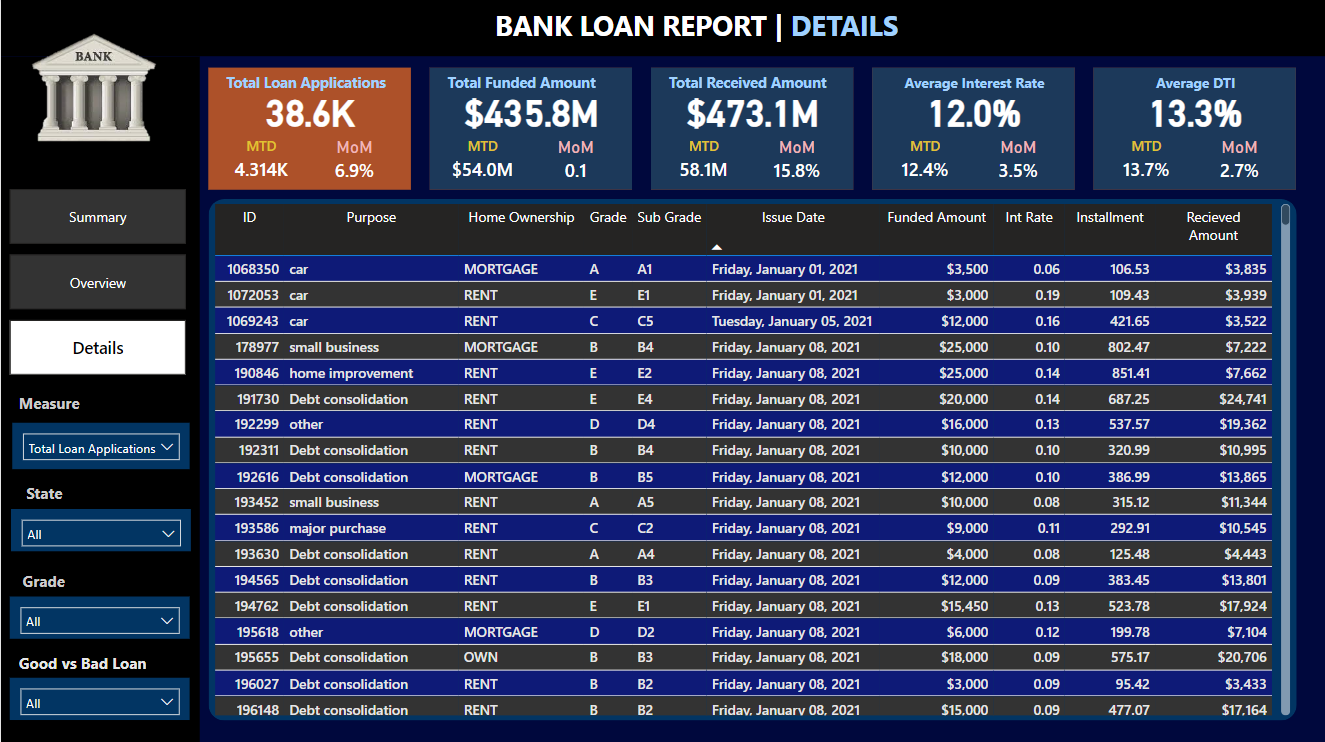

The page's visual inventory and layout, read from the dashboard file:
{"tool":"powerbi","page":{"name":"Details","canvas":[1280,720],"ordinal":2},"visuals":[{"type":"shape","box":[0,0,1280,55.5],"z":0},{"type":"shape","box":[200.5,66.4,195.4,117.5],"z":0,"group":"g1"},{"type":"shape","box":[414.1,66.4,195.4,117.5],"z":0,"group":"g2"},{"type":"shape","box":[627.6,66.4,195.4,117.5],"z":0,"group":"g4"},{"type":"shape","box":[841.1,66.4,195.4,117.5],"z":0,"group":"g3"},{"type":"shape","box":[1054.7,66.4,195.4,117.5],"z":0,"group":"g5"},{"type":"shape","box":[0,55.5,191.8,664.7],"z":1000},{"type":"card","fields":{"Values":["financial_loan.Total Loan Applications"]},"box":[200.5,81.2,196.6,53.2],"z":1000,"group":"g1"},{"type":"card","fields":{"Values":["financial_loan.Total Funded Amount"]},"box":[414.1,81.2,196.6,53.2],"z":1000,"group":"g2"},{"type":"card","fields":{"Values":["financial_loan.Total Recieved Amount"]},"box":[627.6,81.2,196.6,53.2],"z":1000,"group":"g4"},{"type":"card","fields":{"Values":["financial_loan.Avg Int Rate"]},"box":[841.1,81.2,196.6,53.2],"z":1000,"group":"g3"},{"type":"card","fields":{"Values":["financial_loan.Avg DTI"]},"box":[1054.7,81.2,196.6,53.2],"z":1000,"group":"g5"},{"type":"textbox","box":[471.7,2.4,450,53.1],"z":2000},{"type":"textbox","box":[212.9,66.4,173.1,29.7],"z":2000,"group":"g1"},{"type":"textbox","box":[426.5,66.4,173.1,29.7],"z":2000,"group":"g2"},{"type":"textbox","box":[640,66.4,173.1,29.7],"z":2000,"group":"g4"},{"type":"textbox","box":[853.5,66.4,173.1,29.7],"z":2000,"group":"g3"},{"type":"textbox","box":[1067.1,66.4,173.1,29.7],"z":2000,"group":"g5"},{"type":"group","id":"g1","title":"Group 1","box":[200.5,66.4,196.2,118.3],"z":3000},{"type":"card","title":"MTD","fields":{"Values":["financial_loan.MTD Loan Applications"]},"box":[212.2,132.4,77.9,50.5],"z":3000,"group":"g1"},{"type":"card","title":"MTD","fields":{"Values":["financial_loan.MTD Funded Amount"]},"box":[425.8,132.4,77.9,50.5],"z":3000,"group":"g2"},{"type":"card","title":"MTD","fields":{"Values":["financial_loan.MTD Recieved Amount"]},"box":[639.3,132.4,77.9,50.5],"z":3000,"group":"g4"},{"type":"card","title":"MTD","fields":{"Values":["financial_loan.MTD Avg Int Rate"]},"box":[852.8,132.4,77.9,50.5],"z":3000,"group":"g3"},{"type":"card","title":"MTD","fields":{"Values":["financial_loan.MTD Avg DTI"]},"box":[1066.4,132.4,77.9,50.5],"z":3000,"group":"g5"},{"type":"group","id":"g2","title":"Group 1","box":[414.1,66.4,196.2,118.3],"z":4000},{"type":"card","title":"MoM","fields":{"Values":["financial_loan.MoM Loan Applications"]},"box":[298.8,132.4,86.6,50.5],"z":4000,"group":"g1"},{"type":"card","title":"MoM","fields":{"Values":["financial_loan.MoM Funded Amount"]},"box":[512.4,132.4,86.6,50.5],"z":4000,"group":"g2"},{"type":"card","title":"MoM","fields":{"Values":["financial_loan.MoM Recieved Amount"]},"box":[725.9,132.4,86.6,50.5],"z":4000,"group":"g4"},{"type":"card","title":"MoM","fields":{"Values":["financial_loan.MoM Avg Int Rate"]},"box":[939.4,132.4,86.6,50.5],"z":4000,"group":"g3"},{"type":"card","title":"MoM","fields":{"Values":["financial_loan.MoM Avg DTI"]},"box":[1153,132.4,86.6,50.5],"z":4000,"group":"g5"},{"type":"group","id":"g3","title":"Group 1","box":[841.1,66.4,196.2,118.3],"z":5000},{"type":"group","id":"g4","title":"Group 1","box":[627.6,66.4,196.2,118.3],"z":6000},{"type":"group","id":"g5","title":"Group 1","box":[1054.7,66.4,196.2,118.3],"z":7000},{"type":"shape","box":[200.5,193.3,1050.3,503.5],"z":8000},{"type":"slicer","fields":{"Values":["financial_loan.address_state"]},"box":[9.7,492.2,173.7,41],"z":9000},{"type":"textbox","box":[19.3,462.1,54.3,30.2],"z":10000},{"type":"slicer","fields":{"Values":["financial_loan.grade"]},"box":[8.4,576.7,173.7,41],"z":11000},{"type":"textbox","box":[15.7,546.5,68.8,30.2],"z":12000},{"type":"slicer","fields":{"Values":["financial_loan.Good v Bad Loan"]},"box":[8.4,655.1,173.7,41],"z":13000},{"type":"textbox","box":[11.5,625.8,152.9,31.7],"z":14000},{"type":"slicer","fields":{"Values":["Select Measure.Select Measure"]},"box":[10.9,409,171.3,44.6],"z":15000},{"type":"textbox","box":[12.1,375.2,130.3,33.8],"z":16000},{"type":"tableEx","fields":{"Values":["financial_loan.id","financial_loan.purpose","financial_loan.home_ownership","financial_loan.grade","financial_loan.sub_grade","financial_loan.issue_date","financial_loan.Total Funded Amount","Sum(financial_loan.int_rate)","Sum(financial_loan.installment)","financial_loan.Total Recieved Amount"]},"box":[200.5,193.3,1048.9,503.5],"z":17000},{"type":"pageNavigator","box":[8.4,183.4,170.1,179.8],"z":18000},{"type":"image","box":[3.6,2.4,168.9,168.9],"z":19000}]}

Visuals, with their boxes in screenshot pixels (x1, y1, x2, y2), scaled from the page's 1280x720 canvas onto the 1325x742 screenshot:
shape: bbox=(0, 0, 1324, 57)
shape: bbox=(208, 68, 410, 190)
shape: bbox=(429, 68, 631, 190)
shape: bbox=(650, 68, 852, 190)
shape: bbox=(871, 68, 1073, 190)
shape: bbox=(1092, 68, 1294, 190)
shape: bbox=(0, 57, 199, 741)
card - financial_loan.Total Loan Applications: bbox=(208, 84, 411, 139)
card - financial_loan.Total Funded Amount: bbox=(429, 84, 632, 139)
card - financial_loan.Total Recieved Amount: bbox=(650, 84, 853, 139)
card - financial_loan.Avg Int Rate: bbox=(871, 84, 1074, 139)
card - financial_loan.Avg DTI: bbox=(1092, 84, 1295, 139)
textbox: bbox=(488, 2, 954, 57)
textbox: bbox=(220, 68, 400, 99)
textbox: bbox=(441, 68, 621, 99)
textbox: bbox=(662, 68, 842, 99)
textbox: bbox=(884, 68, 1063, 99)
textbox: bbox=(1105, 68, 1284, 99)
"Group 1" group: bbox=(208, 68, 411, 190)
"MTD" card: bbox=(220, 136, 300, 188)
"MTD" card: bbox=(441, 136, 521, 188)
"MTD" card: bbox=(662, 136, 742, 188)
"MTD" card: bbox=(883, 136, 963, 188)
"MTD" card: bbox=(1104, 136, 1185, 188)
"Group 1" group: bbox=(429, 68, 632, 190)
"MoM" card: bbox=(309, 136, 399, 188)
"MoM" card: bbox=(530, 136, 620, 188)
"MoM" card: bbox=(751, 136, 841, 188)
"MoM" card: bbox=(972, 136, 1062, 188)
"MoM" card: bbox=(1194, 136, 1283, 188)
"Group 1" group: bbox=(871, 68, 1074, 190)
"Group 1" group: bbox=(650, 68, 853, 190)
"Group 1" group: bbox=(1092, 68, 1295, 190)
shape: bbox=(208, 199, 1295, 718)
slicer - financial_loan.address_state: bbox=(10, 507, 190, 549)
textbox: bbox=(20, 476, 76, 507)
slicer - financial_loan.grade: bbox=(9, 594, 189, 637)
textbox: bbox=(16, 563, 87, 594)
slicer - financial_loan.Good v Bad Loan: bbox=(9, 675, 189, 717)
textbox: bbox=(12, 645, 170, 678)
slicer - Select Measure.Select Measure: bbox=(11, 421, 189, 467)
textbox: bbox=(13, 387, 147, 421)
tableEx - financial_loan.id x financial_loan.purpose: bbox=(208, 199, 1293, 718)
pageNavigator: bbox=(9, 189, 185, 374)
image: bbox=(4, 2, 179, 177)
